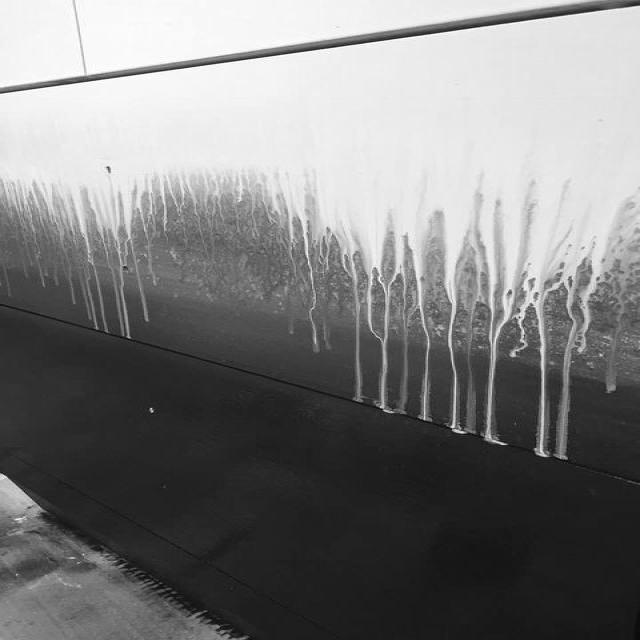paint drips: (253, 168, 640, 468), (0, 155, 245, 340)
